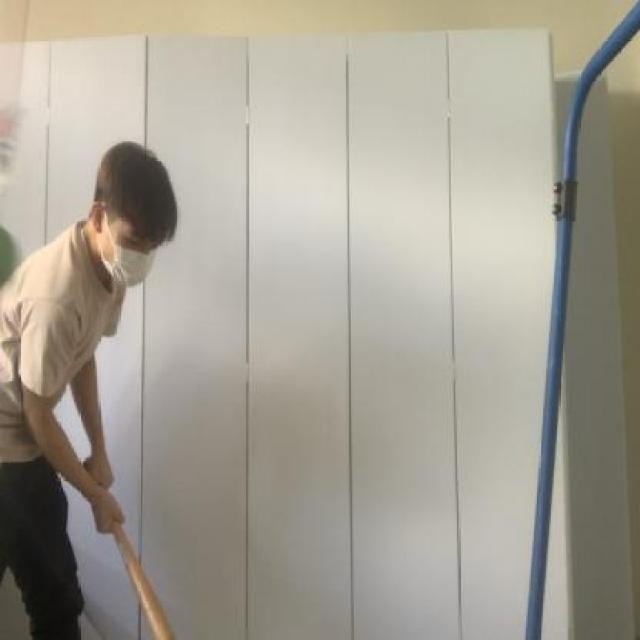baseball: (0, 211, 14, 298)
